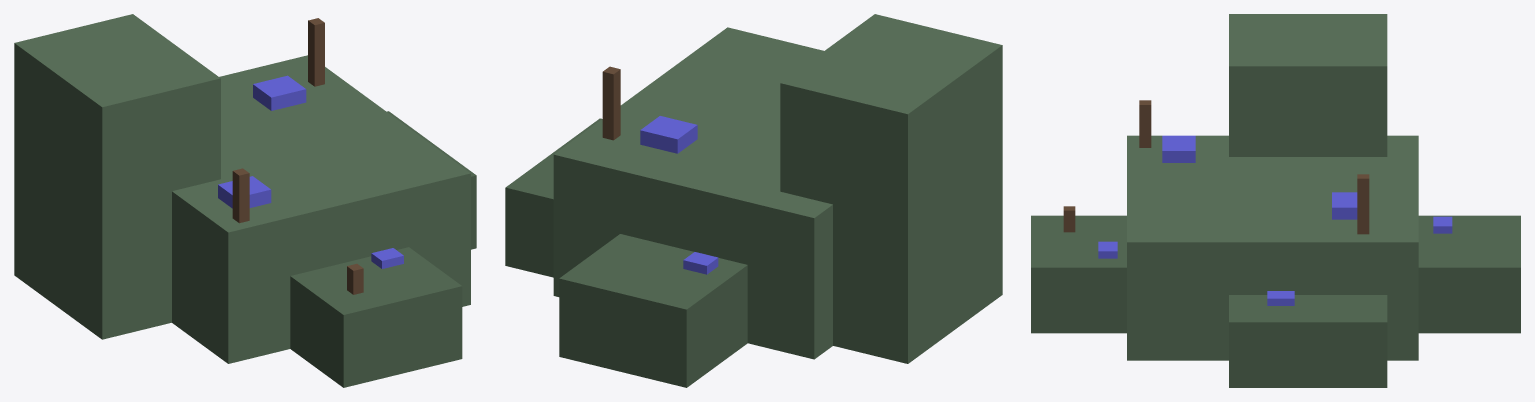
Rendered from shrubbery-2nd.fbx.
3 renders of one model, left to right at view 1: azimuth 30°, elevation 25°; view 2: azimuth 150°, elevation 25°; view 3: azimuth 270°, elevation 25°, orthographic. The views are drawn at different scales.
Visible parts, largest first — view 1: polySurface17; view 2: polySurface17; view 3: polySurface17.
Part boxes in pixels (left/top/right/bottom): polySurface17: left=14, top=14, right=476, bottom=387; polySurface17: left=505, top=14, right=1002, bottom=387; polySurface17: left=1031, top=14, right=1520, bottom=387.
Bounding box in the file's own units: 1.34 × 0.7925 × 1.68.
